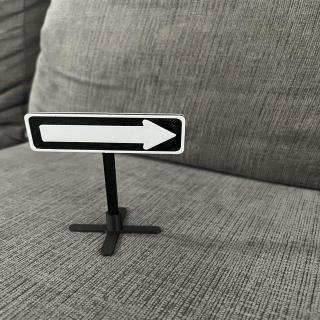sign_oneway_right: (24, 113, 188, 157)
